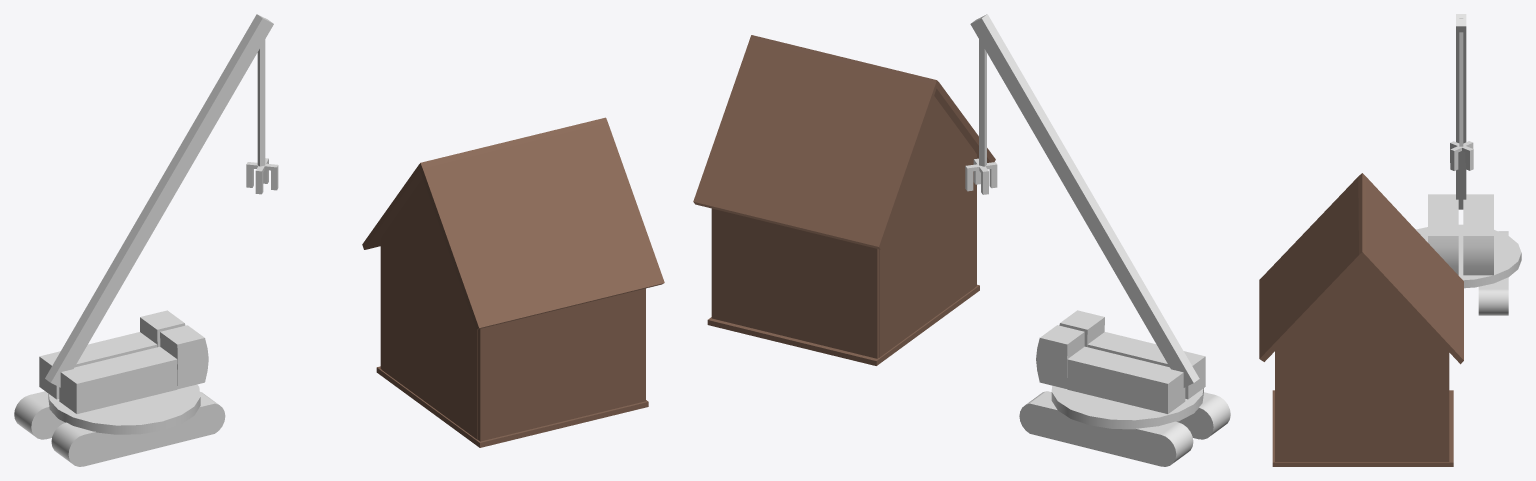
Rendered from HuisjeGingerbread1Dak.fbx.
3 views of the same model, side by side, from view 1: azimuth 30°, elevation 25°; view 2: azimuth 150°, elevation 25°; view 3: azimuth 270°, elevation 25° (orthographic). The views are drawn at different scales.
Parts seen in each view (by area): view 1: Cube.004, hijskraan block out 001, Cube.007, Cube.002, Cube.001; view 2: Cube.004, hijskraan block out 001, Cube.005, Cube.002, Cube.001; view 3: Cube.003, Cube.004, hijskraan block out 001, Cube.001, Cube.007, Cube.005.
Boxes of the visible parts, x1,y1,x2,y2 form: Cube.004: (362,117,664,329); hijskraan block out 001: (14,14,278,466); Cube.007: (477,288,645,441); Cube.002: (381,178,477,439); Cube.001: (376,366,648,447); Cube.004: (693,35,995,249); hijskraan block out 001: (965,14,1230,466); Cube.005: (711,208,878,358); Cube.002: (879,96,974,357); Cube.001: (707,284,979,365); Cube.003: (1279,260,1446,461); Cube.004: (1259,173,1463,364); hijskraan block out 001: (1416,14,1521,315); Cube.001: (1272,390,1453,466); Cube.007: (1275,347,1279,461); Cube.005: (1446,350,1449,461).
Size of the model in its own units: 1044 by 747 by 533.
